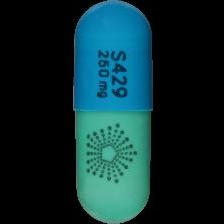54092-189: (0, 0, 224, 224)
